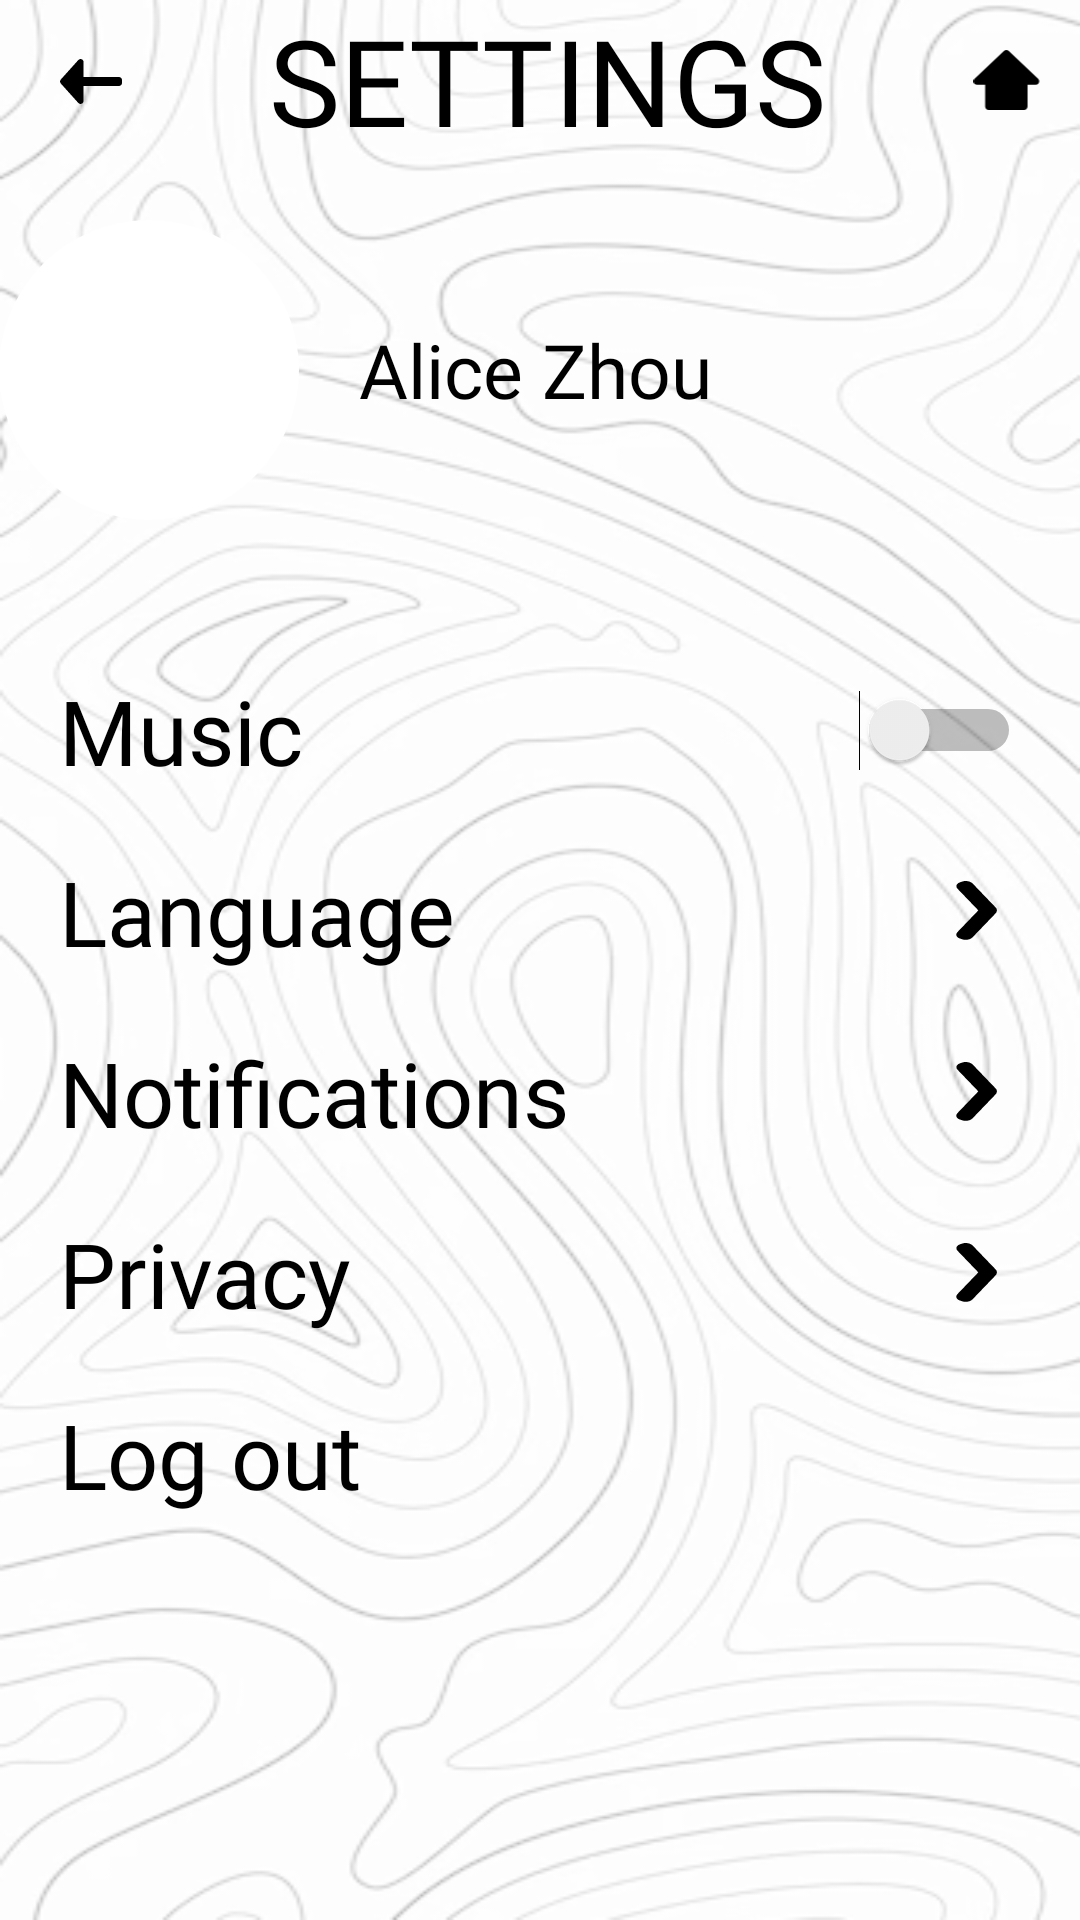

Point at icon controls on the screen. Image size 1080x1920, points as [x,y].
home shape: [1006,80]
